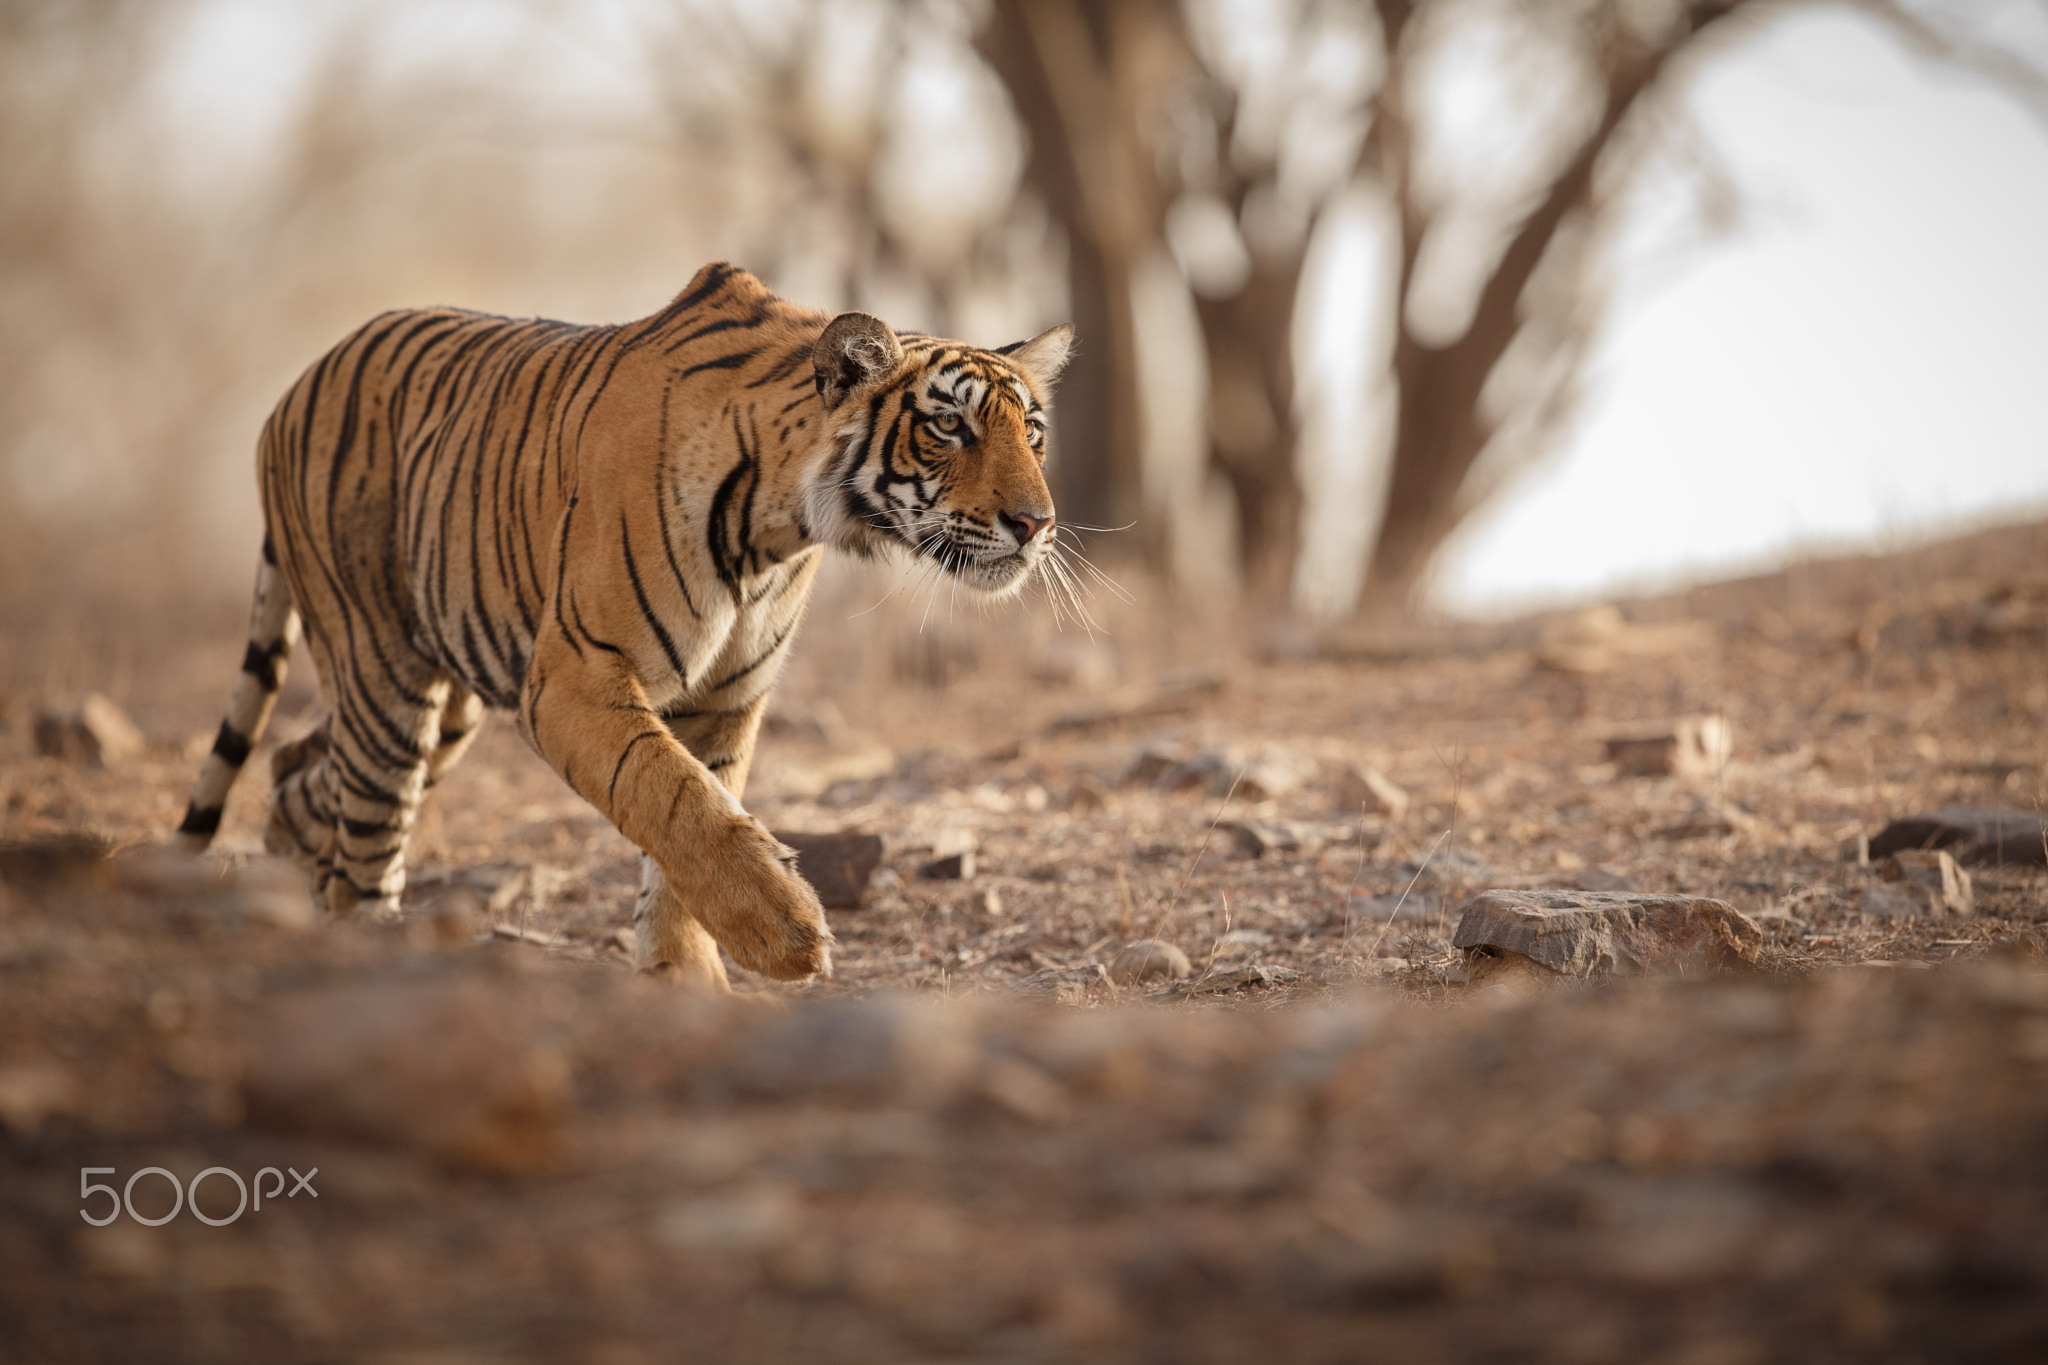tiger: (256, 276, 1134, 1036)
